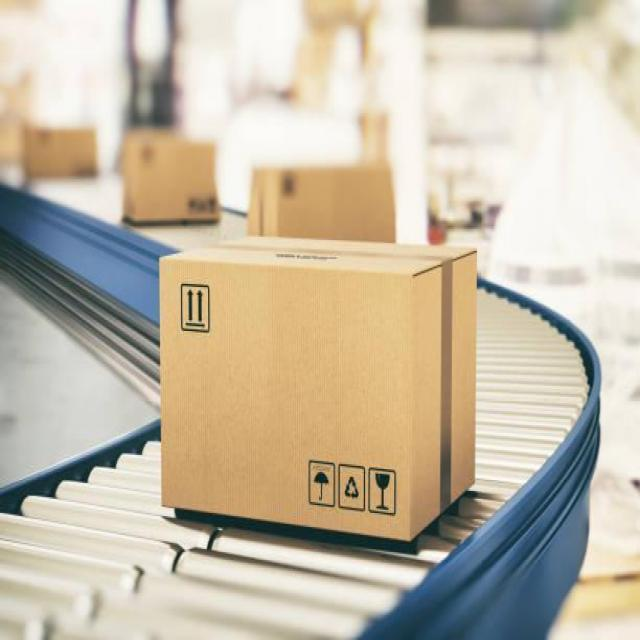box: (156, 225, 480, 544)
